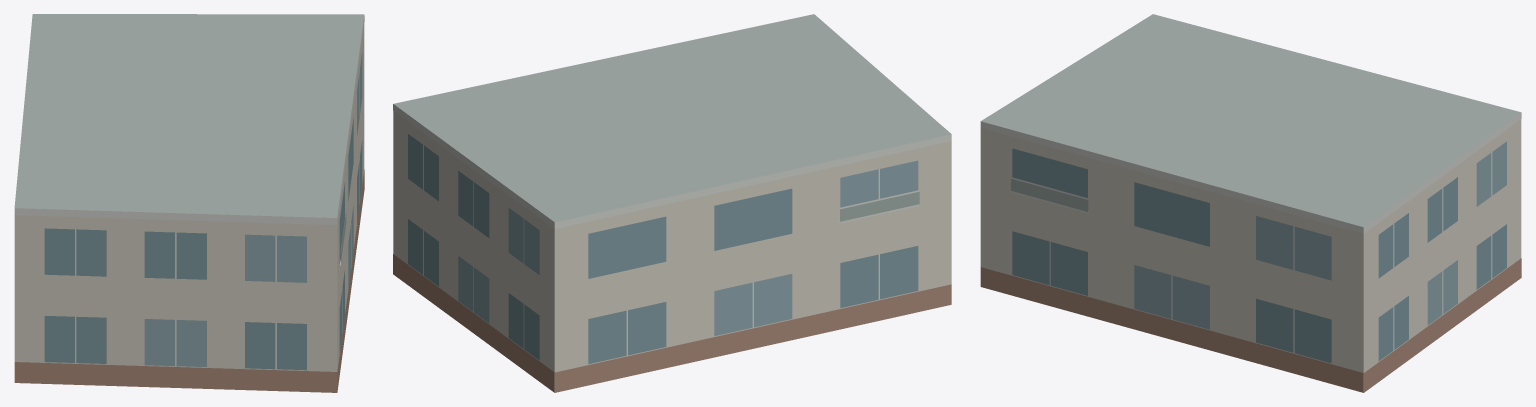
The model's file is survey-upis-32751659.glb.
The picture shows the model from 3 angles, left to right: view 1: azimuth 30°, elevation 25°; view 2: azimuth 150°, elevation 25°; view 3: azimuth 270°, elevation 25°; orthographic projection. The views are drawn at different scales.
Parts seen in each view (by area): view 1: survey-upis-32751659.tmp; view 2: survey-upis-32751659.tmp; view 3: survey-upis-32751659.tmp.
Part boxes in pixels (left/top/right/bottom): survey-upis-32751659.tmp: left=14, top=14, right=364, bottom=392; survey-upis-32751659.tmp: left=393, top=14, right=951, bottom=392; survey-upis-32751659.tmp: left=980, top=14, right=1521, bottom=392.
Size of the model in its own units: 16.86 by 6.1 by 18.06.
